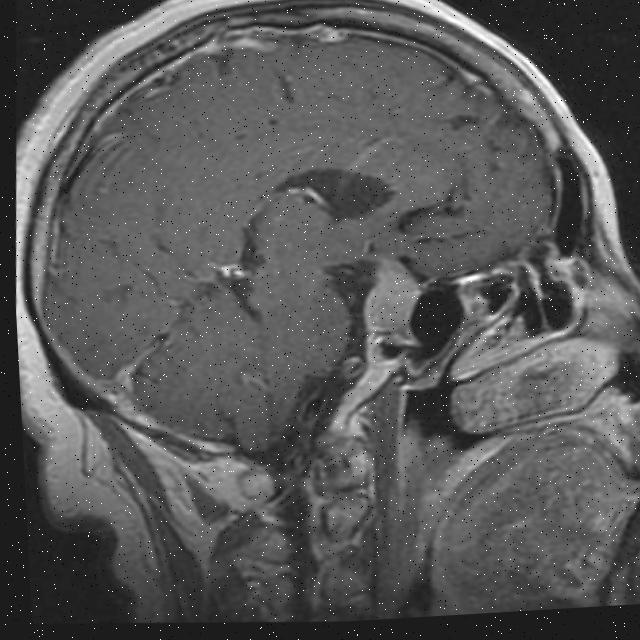Pituitary: (359, 253, 427, 334)
